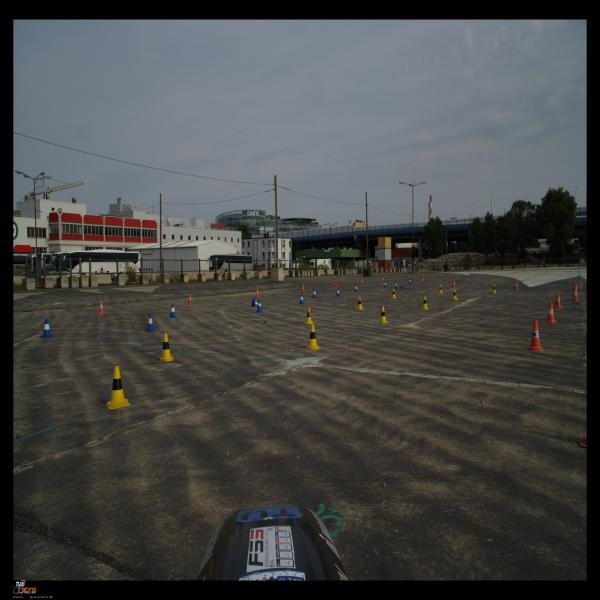blue_cone: (41, 318, 53, 338), (144, 313, 157, 331), (169, 303, 177, 318), (256, 300, 263, 312), (298, 293, 304, 304), (251, 298, 258, 306), (312, 289, 317, 298), (336, 288, 340, 296), (354, 284, 358, 292), (384, 280, 387, 288), (394, 282, 398, 288), (409, 278, 412, 284)
orange_cone: (526, 320, 546, 351), (544, 302, 558, 323), (570, 287, 580, 301), (97, 299, 106, 314), (554, 292, 562, 308), (571, 283, 580, 294), (187, 294, 193, 305), (514, 280, 519, 290), (255, 288, 260, 297), (451, 280, 456, 288), (303, 284, 306, 292), (334, 283, 337, 288), (361, 278, 363, 285), (382, 276, 384, 282), (422, 276, 424, 282)
yellow_cone: (105, 366, 130, 409), (159, 333, 174, 362), (306, 324, 320, 350), (378, 306, 388, 324), (304, 307, 314, 324), (421, 296, 430, 309), (356, 296, 364, 310), (451, 289, 458, 300), (391, 288, 397, 299), (491, 284, 497, 294), (438, 284, 443, 294)
